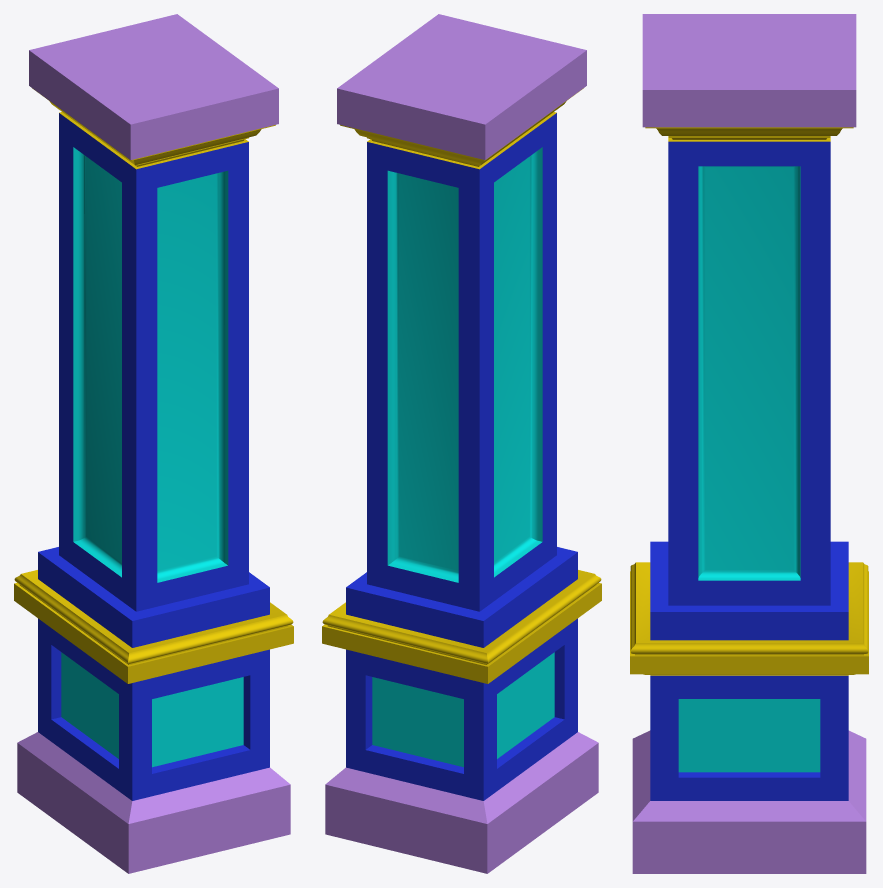
Rendered from Pilar_CORR2.fbx.
3 renders of one model, left to right at view 1: azimuth 30°, elevation 25°; view 2: azimuth 150°, elevation 25°; view 3: azimuth 270°, elevation 25°, orthographic. The views are drawn at different scales.
Visible parts, largest first — view 1: PILAR3; view 2: PILAR3; view 3: PILAR3.
Boxes of the visible parts, x1=… form: PILAR3: x1=14, y1=14, x2=293, y2=873; PILAR3: x1=322, y1=14, x2=601, y2=873; PILAR3: x1=630, y1=14, x2=868, y2=873.
Size of the model in its own units: 140 by 600 by 166.
